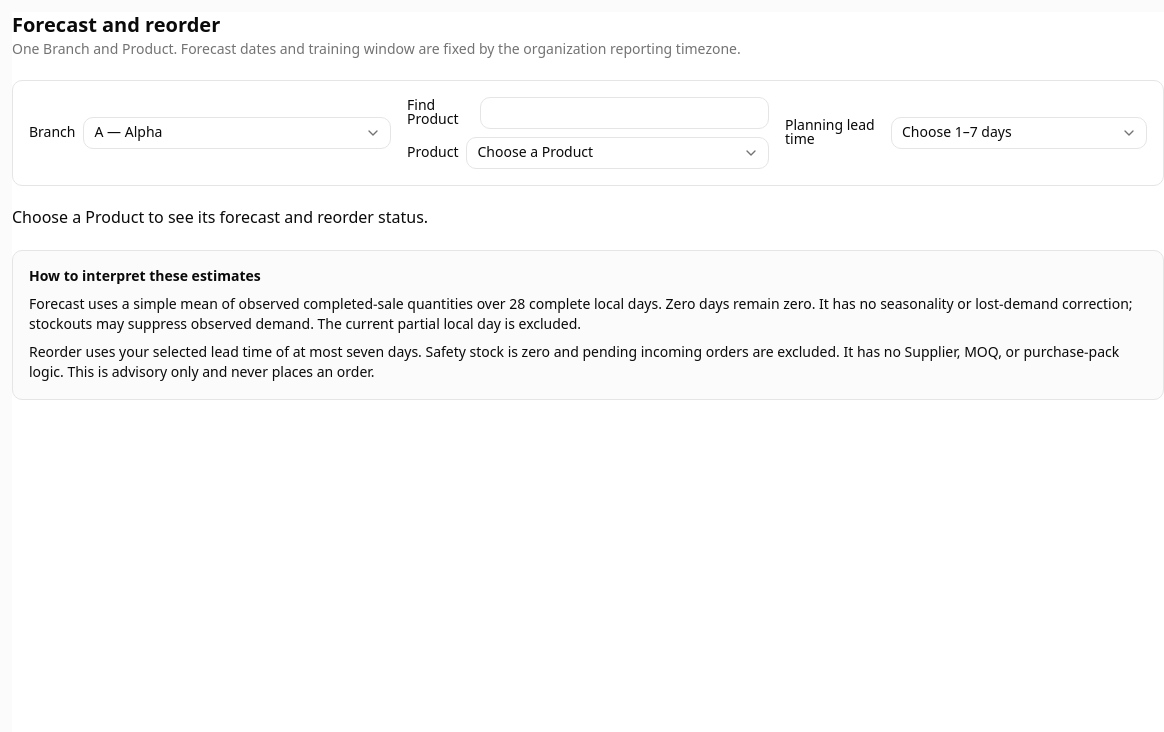
Scenario: Forecast and reorder view › announces INVENTORY_INTEGRITY_ERROR without a fabricated quantity
Select "ONE — One" in the dropdown labelled "Product": x=618, y=153 [466,137,769,169]
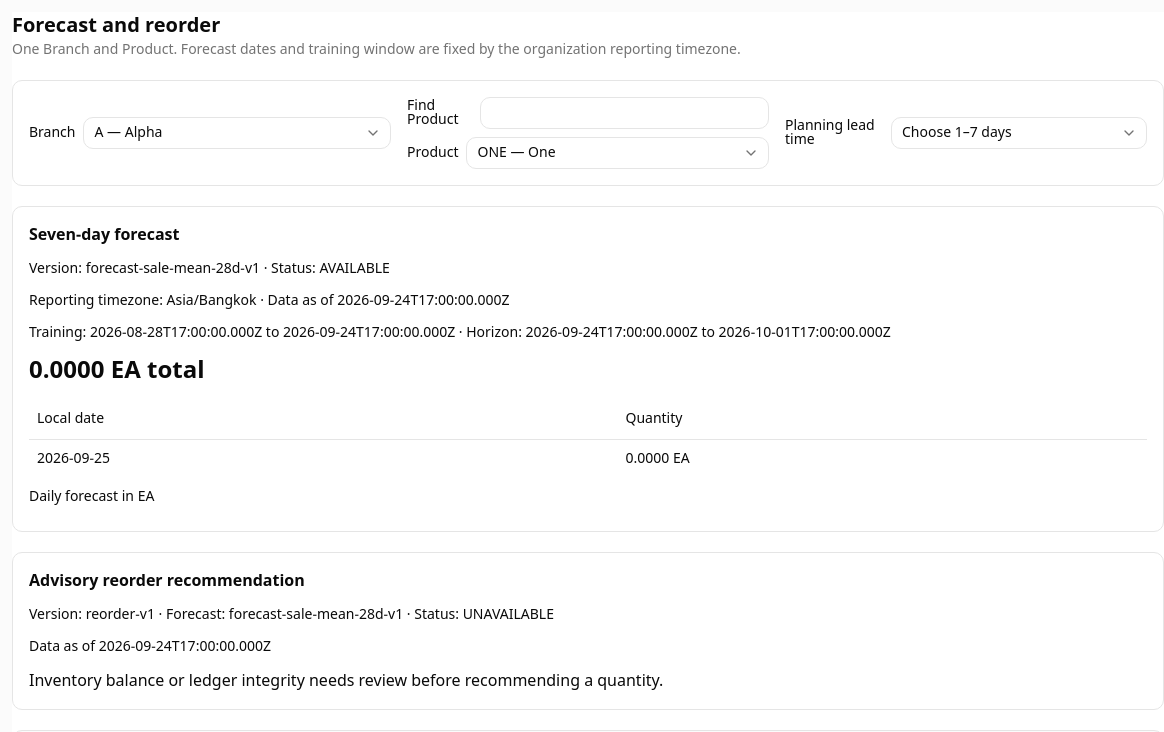
Now the message is shown, box [29,669,663,693]
